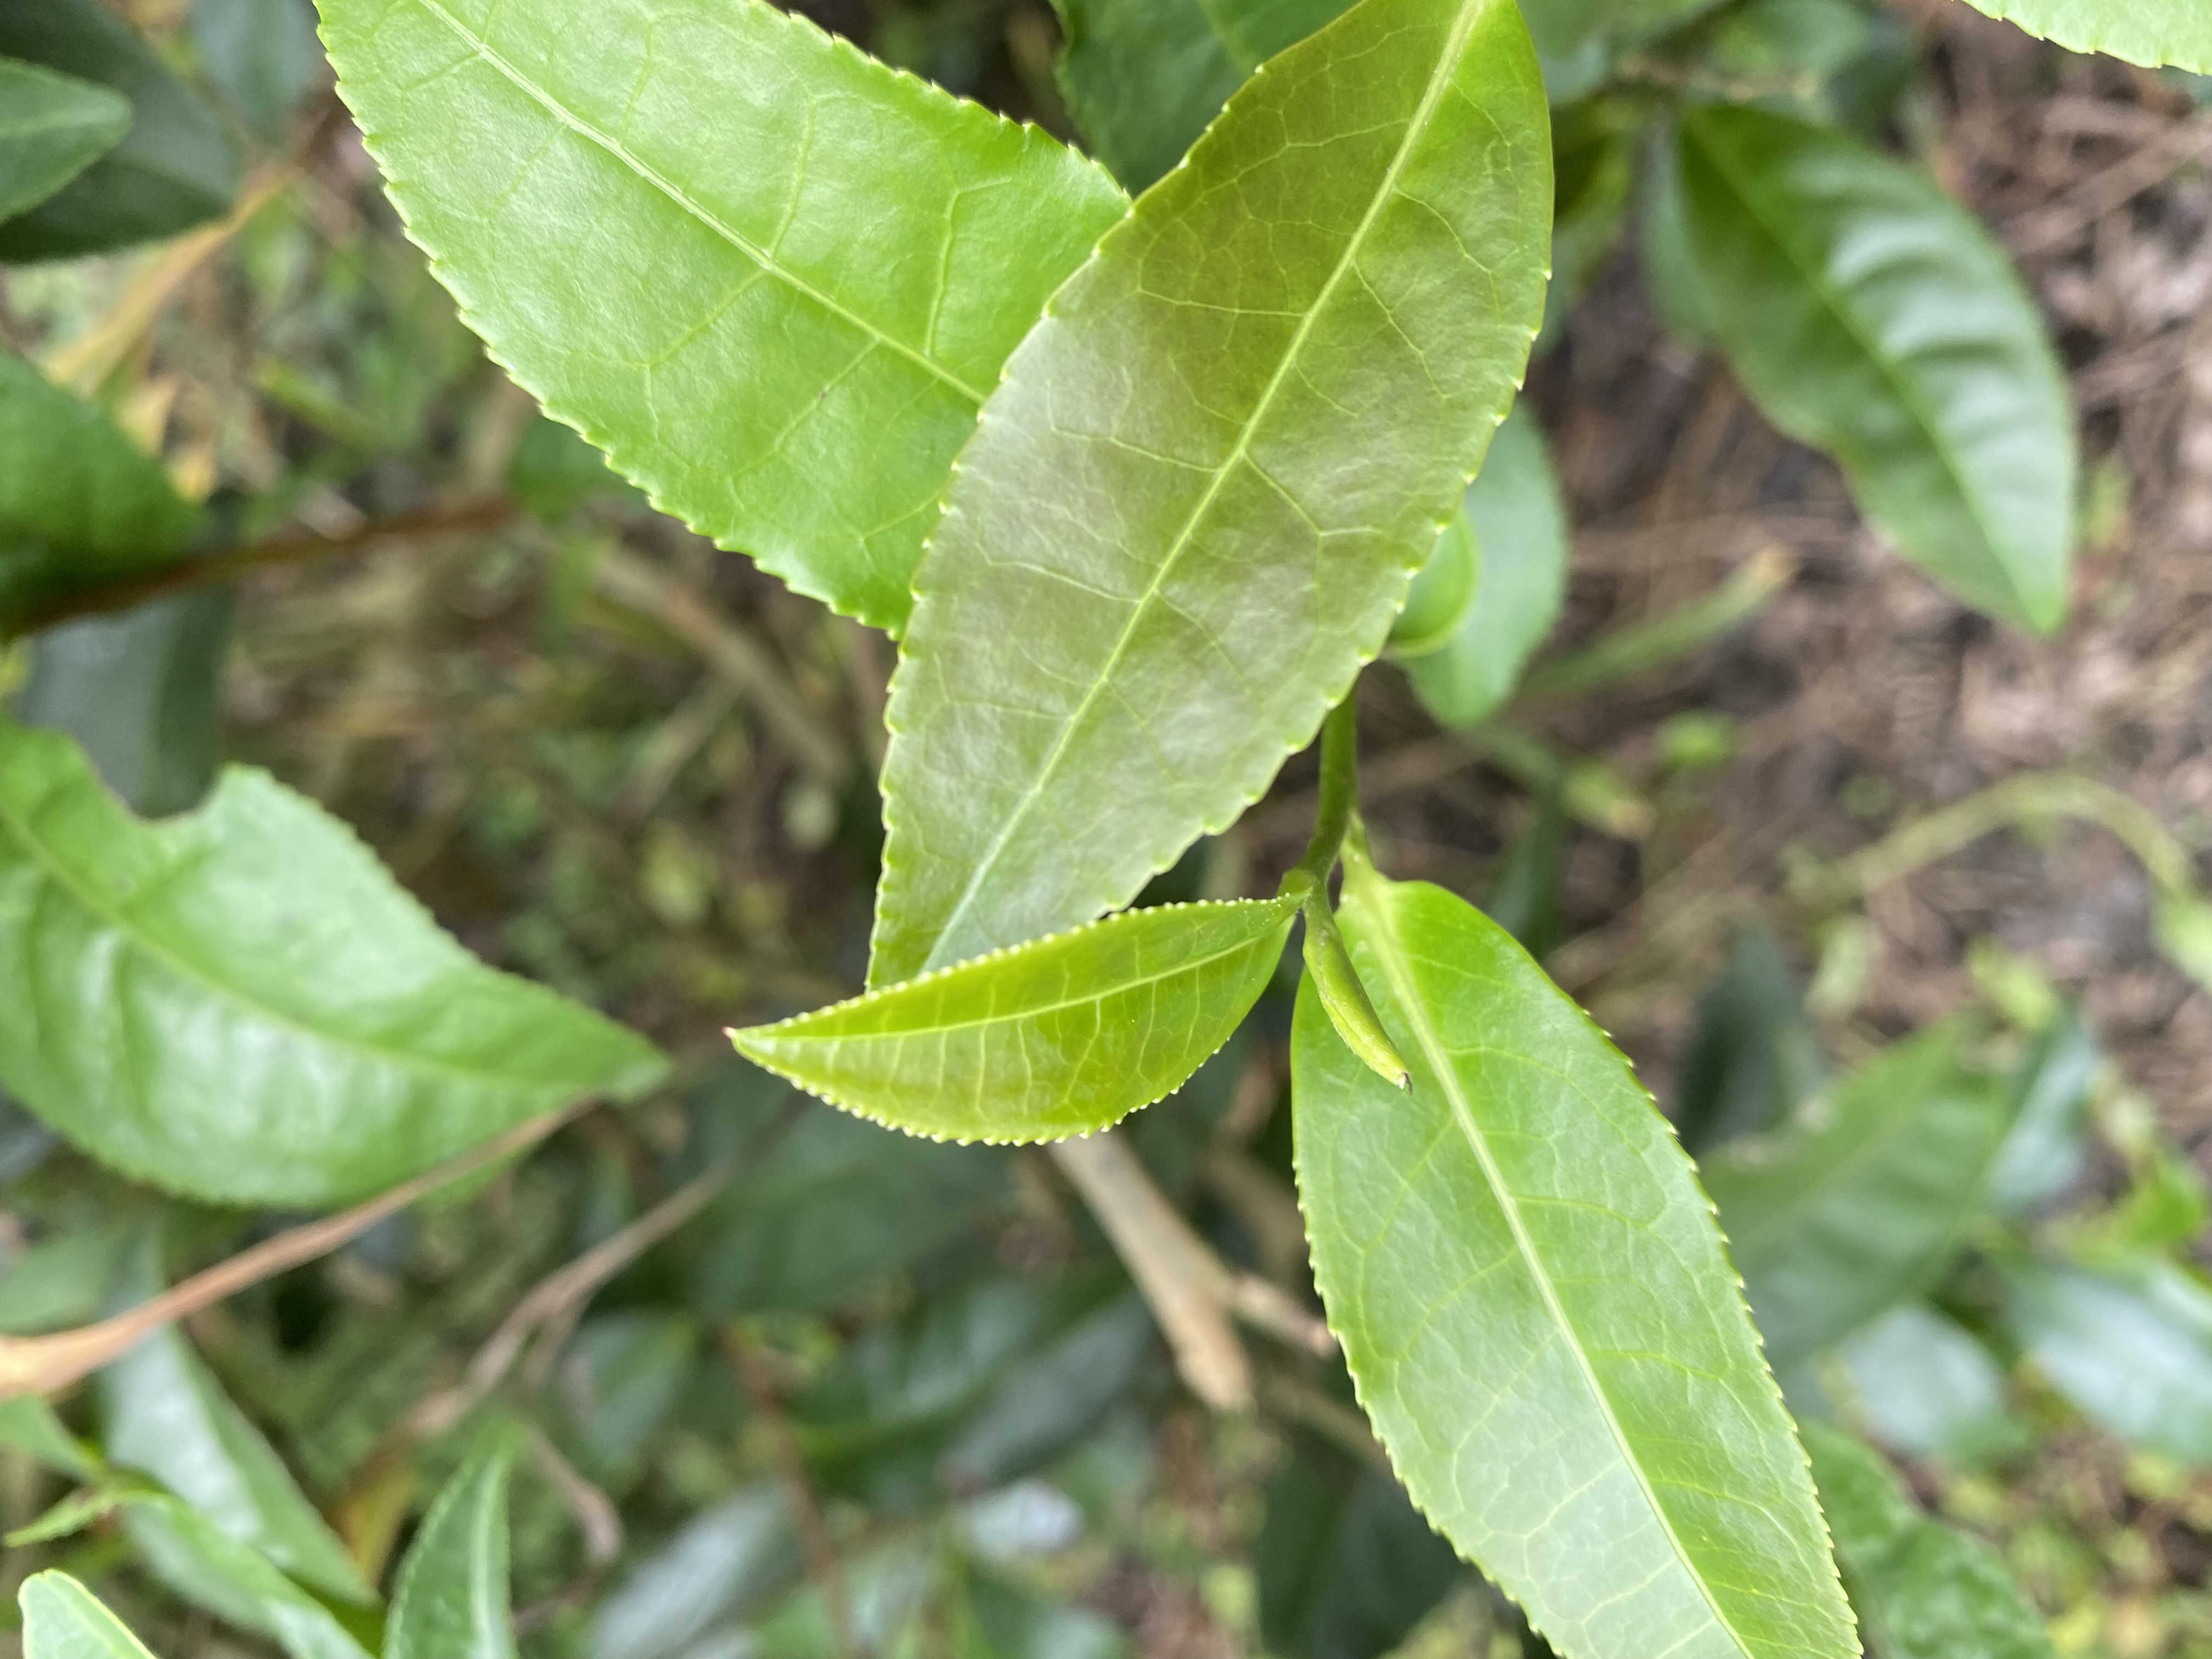chihuo_low: (3, 718, 672, 1208)
healthy: (864, 3, 1561, 999), (303, 2, 1136, 645), (1291, 880, 1867, 1657), (718, 894, 1308, 1152)
